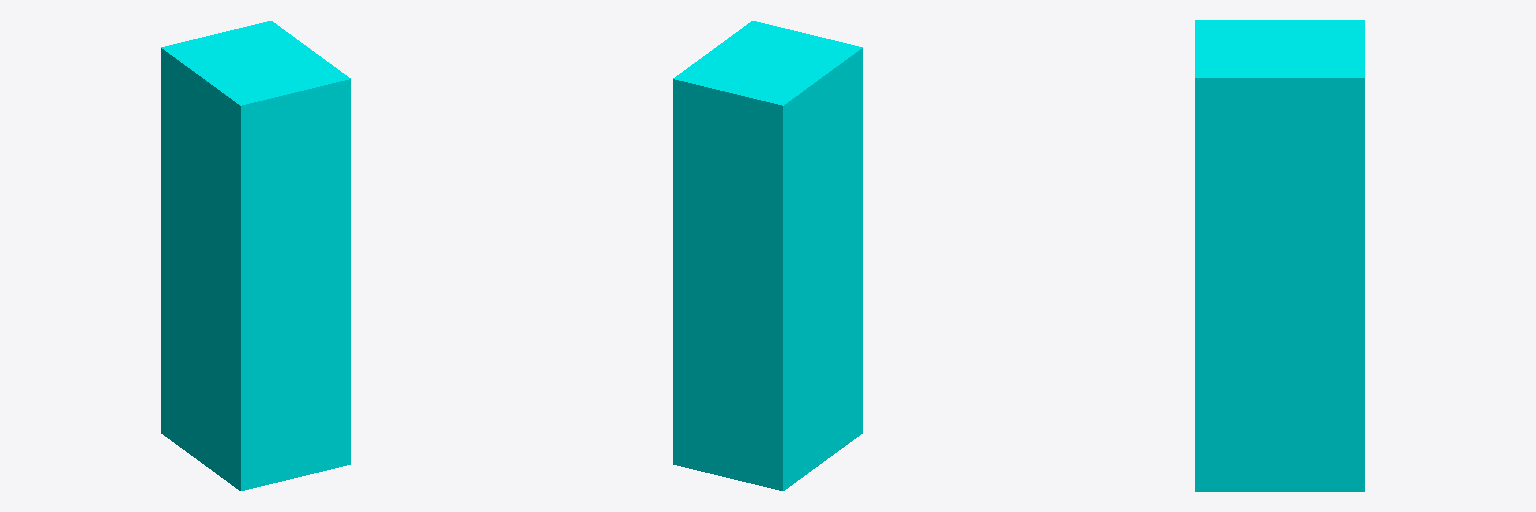
robot.urdf — simple_cuboid:
<?xml version="1.0"?>
<robot name="simple_cuboid">
  <link name="base_link">
    <inertial>
      <origin xyz="0 0 0" rpy="0 0 0" />
      <mass value="0.1" />
      <inertia ixx="0.000363" ixy="0" ixz="0" iyy="0.000363" iyz="0"
          izz="0.00006" />
    </inertial>
    <visual>
      <origin xyz="0 0 0" rpy="0 0 0" />
      <geometry>
        <box size="0.06 0.075 0.2" />
      </geometry>
      <material name="cyan">
        <color rgba="0. 1. 1. 0.9" />
      </material>
    </visual>

    <!--
      This places contact spheres on the corners of the visual box and a
      *slightly* smaller inset contact box (centered on the visual origin). This
      accounts for issues in the contact computation providing stable table
      contact *and* supports grasping.

      When the box is in stable contact with the ground plane, the corner
      spheres will provide fixed contact points (simulating distributed contact
      points around the face).  However, for arbitrary grip configuration, the
      slightly inset box will provide contact with a *slight* offset (in this
      case a deviation of 0.0005 m from the visual surface).
     -->
    <collision>
      <origin xyz="0 0 0" rpy="0 0 0" />
      <geometry>
        <mesh filename="file://[local-path]/ros_devel_ws/src/learn_affordance_tamp/tamp/examples/pybullet/utils/models/drake/objects/meiying_block_for_pick_and_place_mid_size_cyan.obj" />
      </geometry>
    </collision>

   </link>
</robot>

--- What the picture shows (computed from the rendered views, not written in the file) ---
The picture shows the robot from 3 angles, left to right: view 1: azimuth 30°, elevation 25°; view 2: azimuth 150°, elevation 25°; view 3: azimuth 270°, elevation 25°; orthographic projection.
Robot: simple_cuboid — 1 links, 0 joints (none); root link base_link; default pose: every joint at zero.
Links seen in each view (by area): view 1: base_link; view 2: base_link; view 3: base_link.
Link boxes in pixels (box(x1,y1,x2,y2)): base_link: box(161, 21, 350, 490); base_link: box(673, 21, 862, 490); base_link: box(1195, 20, 1364, 491).
Bounding box of the posed robot: 0.06 × 0.075 × 0.2 m (x, y, z).
Geometry: primitives only (box / cylinder / sphere), no mesh files.
